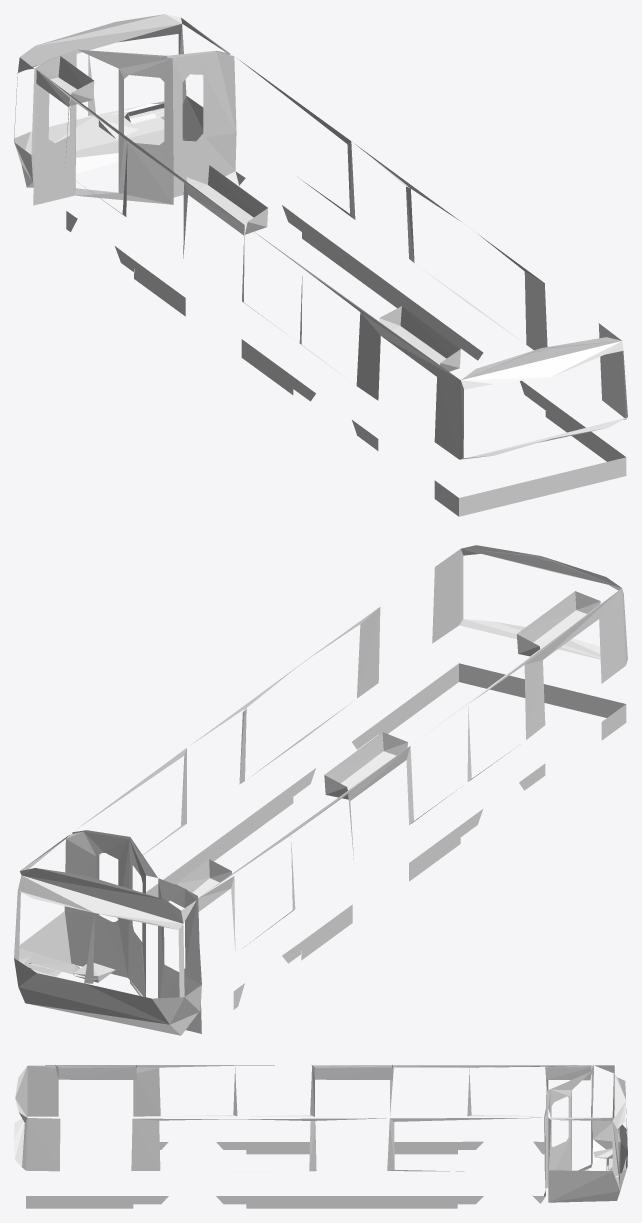
The picture shows the model from 3 angles, top to bottom: view 1: azimuth 30°, elevation 25°; view 2: azimuth 150°, elevation 25°; view 3: azimuth 270°, elevation 25°; orthographic projection. The views are drawn at different scales.
Bounding box in the file's own units: 2.4 × 1.96 × 11.11.
1 material, 1 textured.
